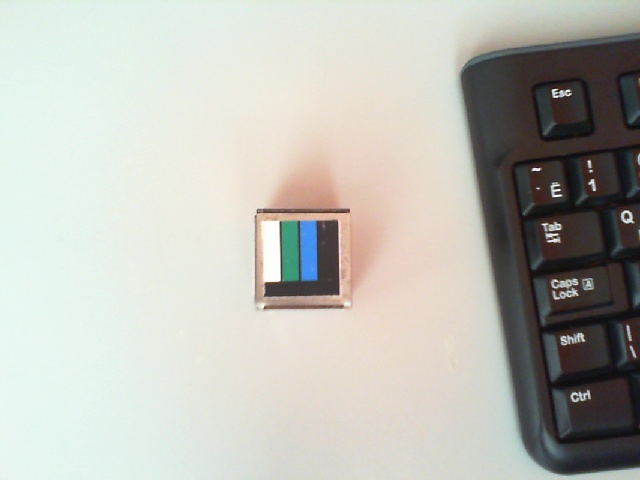square: (262, 220, 340, 296)
